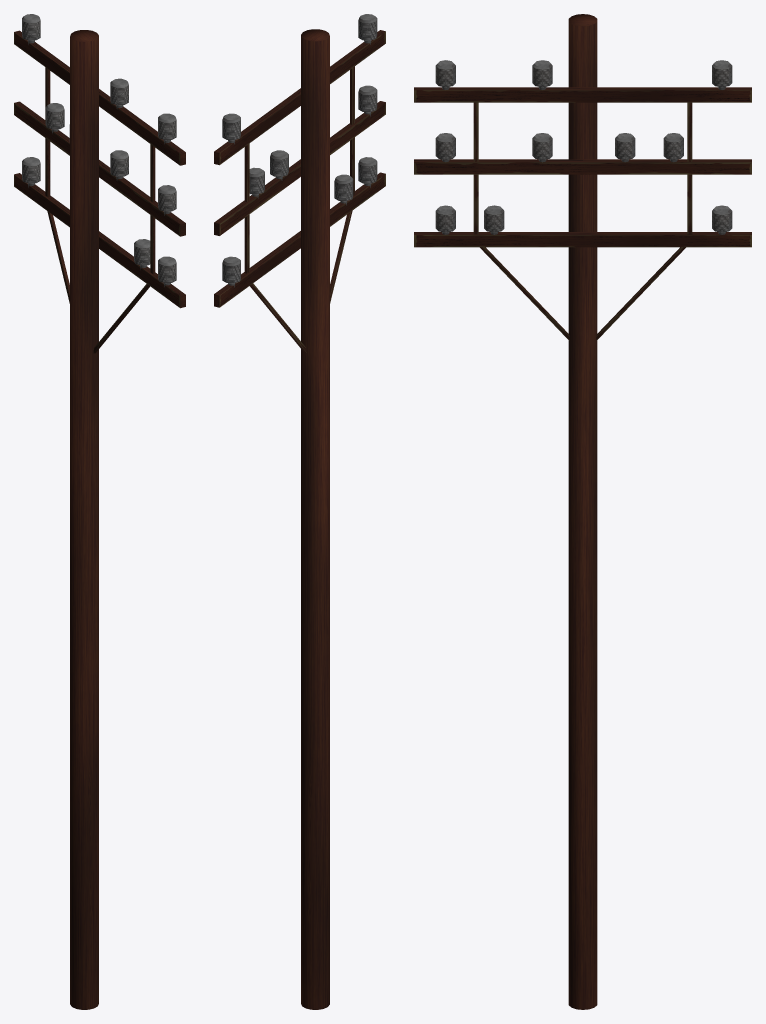
File: o_bg_010_telephonepole_01.fbx
3 views of the same model, side by side, from view 1: azimuth 30°, elevation 25°; view 2: azimuth 150°, elevation 25°; view 3: azimuth 270°, elevation 25° (orthographic).
Visible parts, largest first — view 1: telephonpole; view 2: telephonpole; view 3: telephonpole.
Part boxes in pixels (x1,y1,x2,y2): telephonpole: (14, 14, 185, 1009); telephonpole: (214, 14, 385, 1009); telephonpole: (414, 14, 751, 1009).
Bounding box in the file's own units: 26.26 × 673 × 210.
1 material, 1 textured.
